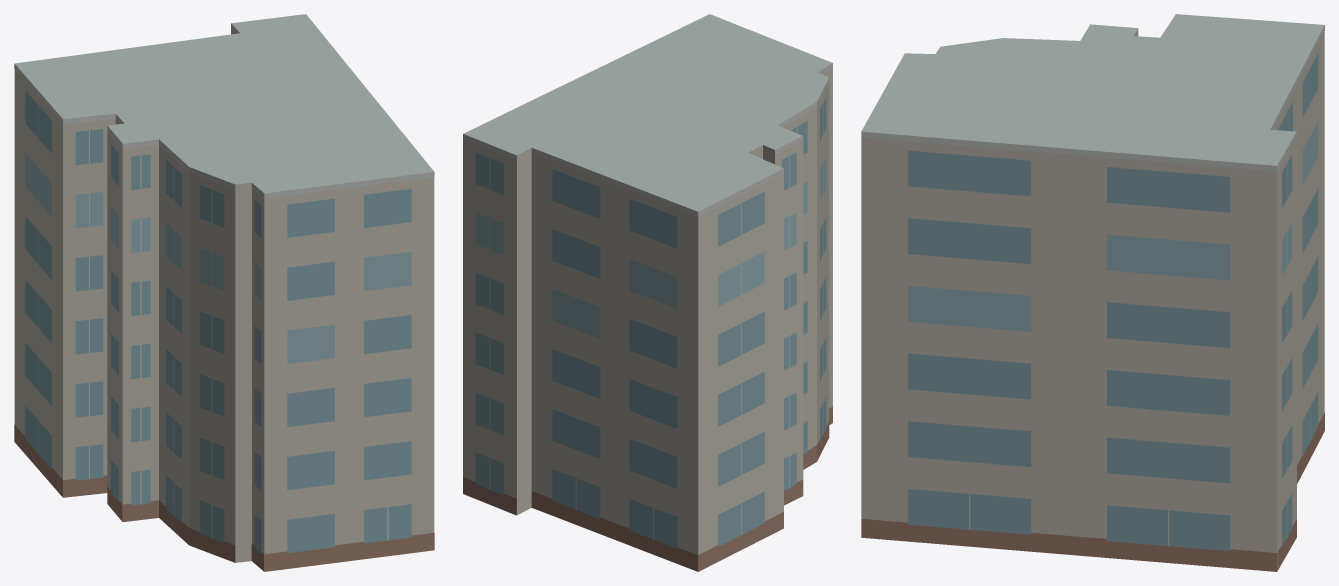
The model's file is survey-upis-33024478.glb.
3 renders of one model, left to right at view 1: azimuth 30°, elevation 25°; view 2: azimuth 150°, elevation 25°; view 3: azimuth 270°, elevation 25°, orthographic. The views are drawn at different scales.
Visible parts, largest first — view 1: survey-upis-33024478.tmp; view 2: survey-upis-33024478.tmp; view 3: survey-upis-33024478.tmp.
Boxes of the visible parts, box(x1,y1,x2,y2) form: survey-upis-33024478.tmp: box(14, 14, 434, 571); survey-upis-33024478.tmp: box(463, 14, 832, 571); survey-upis-33024478.tmp: box(861, 14, 1324, 571).
Size of the model in its own units: 13.73 by 17.1 by 17.71.
